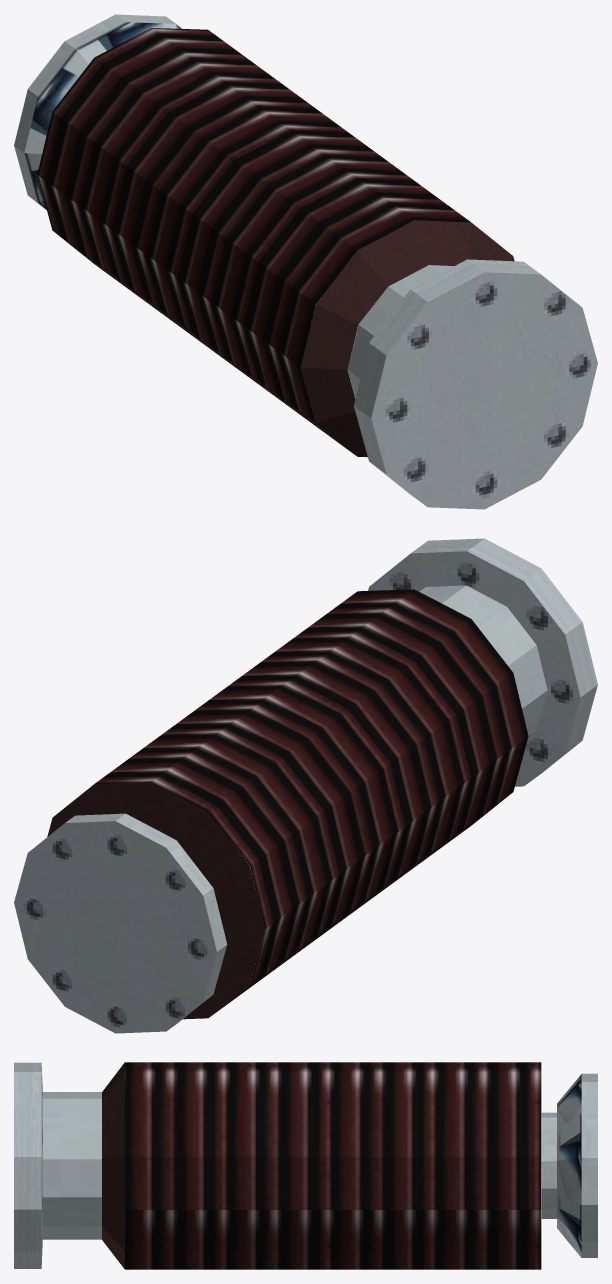
File: jyz031-geode.glb
The picture shows the model from 3 angles, top to bottom: view 1: azimuth 30°, elevation 25°; view 2: azimuth 150°, elevation 25°; view 3: azimuth 270°, elevation 25°; orthographic projection. The views are drawn at different scales.
Visible parts, largest first — view 1: Node; view 2: Node; view 3: Node.
Part boxes in pixels (<box>): Node: <box>14,14,597,509</box>; Node: <box>14,538,597,1033</box>; Node: <box>14,1062,597,1269</box>.
Size of the model in its own units: 0.1671 by 0.1671 by 0.4687.
Materials: 5 (5 with a texture image).
